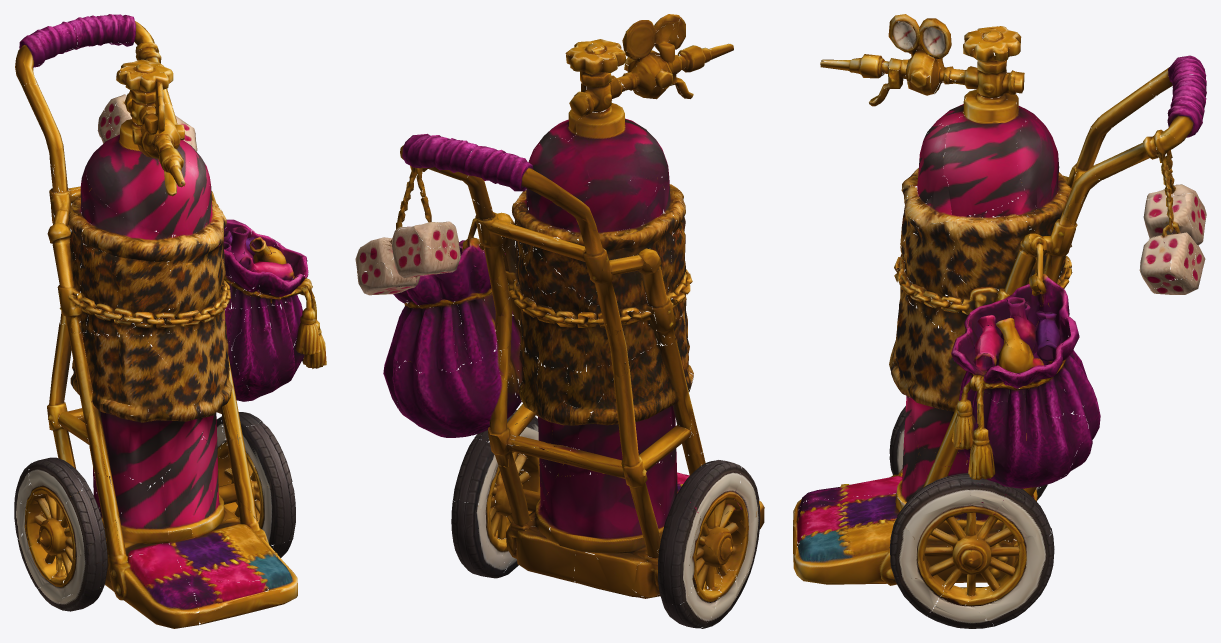
Rendered from tank.glb.
3 views of the same model, side by side, from view 1: azimuth 30°, elevation 25°; view 2: azimuth 150°, elevation 25°; view 3: azimuth 270°, elevation 25° (orthographic). The views are drawn at different scales.
Visible parts, largest first — view 1: tripo_node_785284eb-f2d2-4d1b-9dfe-3eda7c55439e; view 2: tripo_node_785284eb-f2d2-4d1b-9dfe-3eda7c55439e; view 3: tripo_node_785284eb-f2d2-4d1b-9dfe-3eda7c55439e.
Part boxes in pixels (x1,y1,x2,y2): tripo_node_785284eb-f2d2-4d1b-9dfe-3eda7c55439e: (14,14,326,628); tripo_node_785284eb-f2d2-4d1b-9dfe-3eda7c55439e: (355,14,764,628); tripo_node_785284eb-f2d2-4d1b-9dfe-3eda7c55439e: (793,14,1206,628).
Bounding box in the file's own units: 0.5849 × 1 × 0.6808.
Materials: 1 (1 with a texture image).
